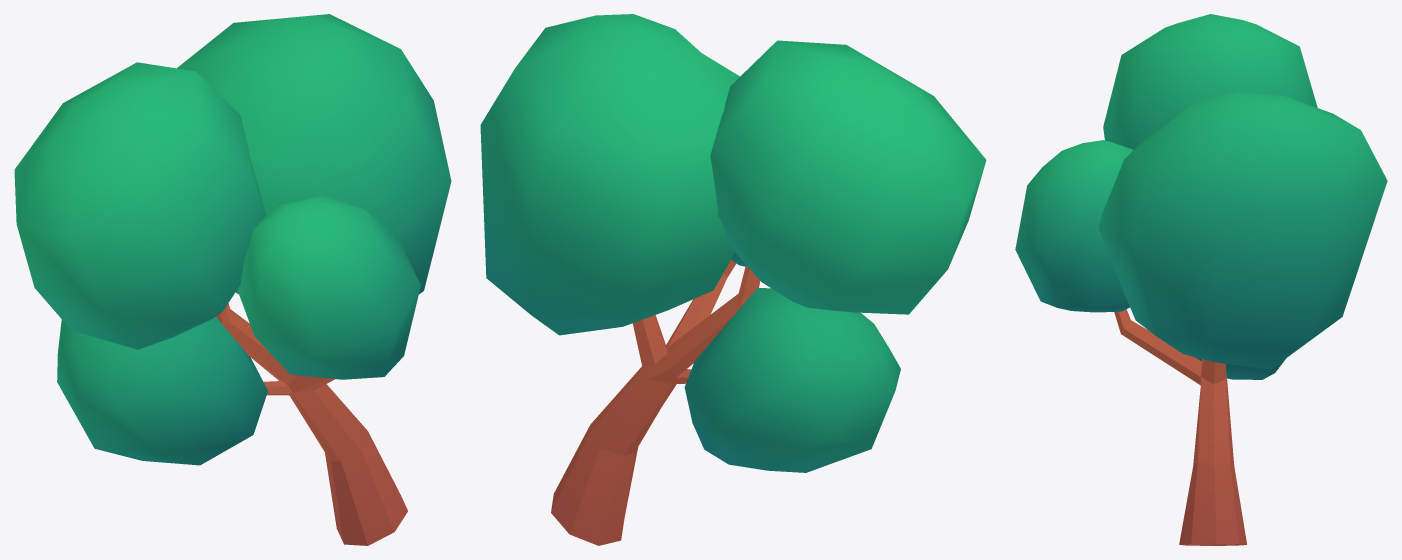
The model's file is Tree4_Green.glb.
3 views of the same model, side by side, from view 1: azimuth 30°, elevation 25°; view 2: azimuth 150°, elevation 25°; view 3: azimuth 270°, elevation 25° (orthographic). The views are drawn at different scales.
Parts seen in each view (by area): view 1: Tree4_Green; view 2: Tree4_Green; view 3: Tree4_Green.
Boxes of the visible parts, left/top/right/bottom form: Tree4_Green: left=14, top=14, right=451, bottom=545; Tree4_Green: left=480, top=14, right=986, bottom=545; Tree4_Green: left=1015, top=14, right=1387, bottom=545.
Size of the model in its own units: 3.57 by 4.11 by 3.12.
1 material, 1 textured.
